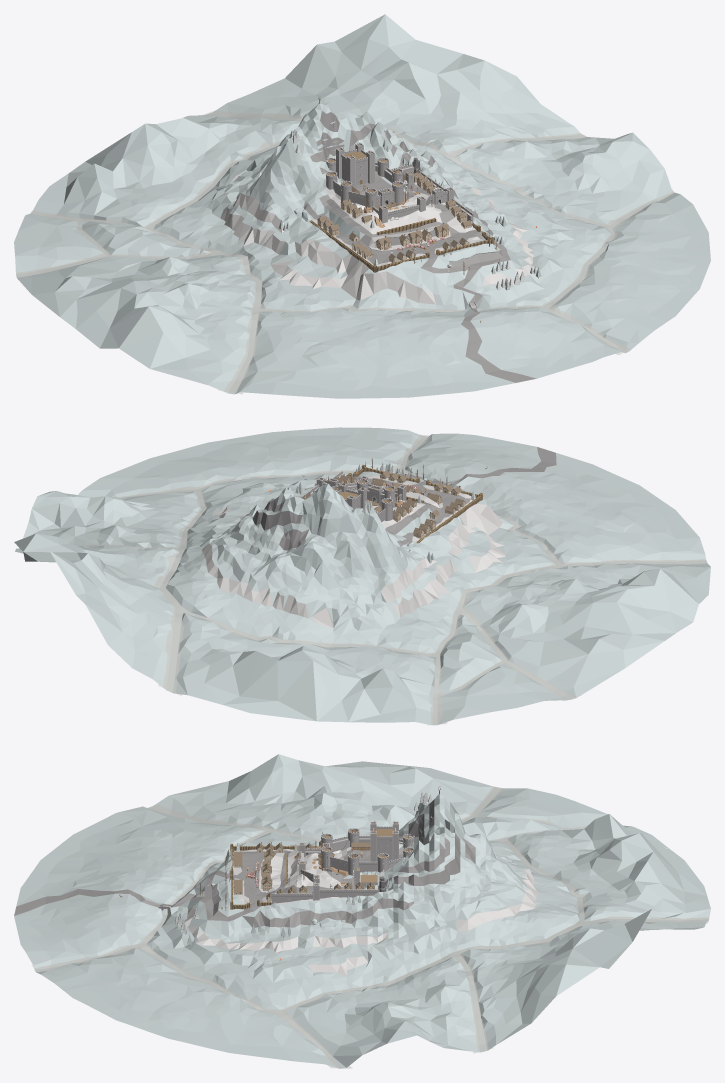
File: castle.gltf
3 views of the same model, one above another, from view 1: azimuth 30°, elevation 25°; view 2: azimuth 150°, elevation 25°; view 3: azimuth 270°, elevation 25° (orthographic).
Visible parts, largest first — view 1: terrain-mountain, castle-medieval; view 2: terrain-mountain, castle-medieval; view 3: terrain-mountain, castle-medieval.
Part boxes in pixels (x1,y1,x2,y2): terrain-mountain: [14, 14, 710, 398]; castle-medieval: [336, 142, 375, 187]; terrain-mountain: [14, 427, 710, 725]; castle-medieval: [337, 482, 366, 508]; terrain-mountain: [14, 754, 710, 1068]; castle-medieval: [370, 821, 398, 862].
Size of the model in its own units: 494 by 106 by 494.
26 materials, 1 textured.
